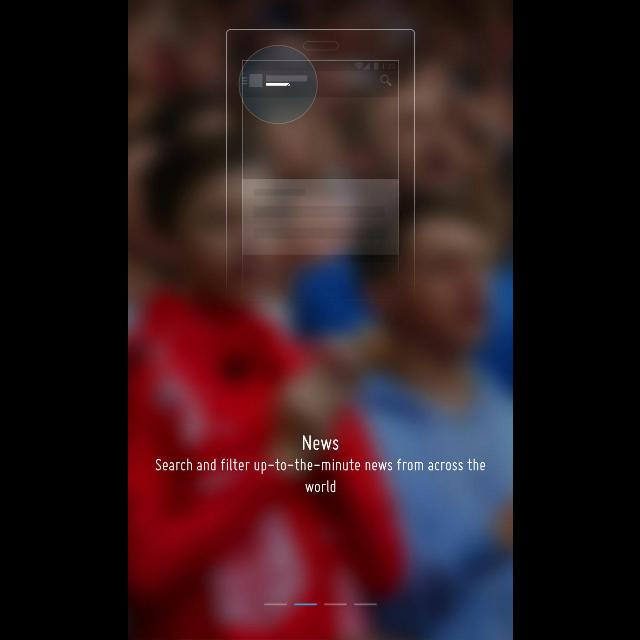backgroundimage: (128, 1, 512, 640)
image: (224, 29, 416, 304)
pageindicator: (264, 602, 376, 606)
text: (155, 458, 485, 492), (302, 436, 338, 450)
